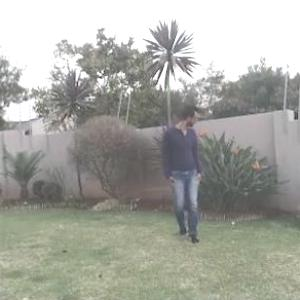follow: (159, 100, 208, 250)
